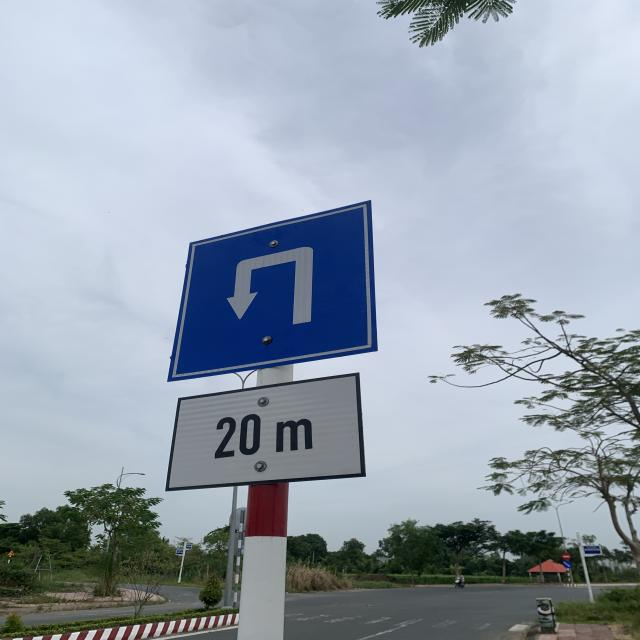Den_Giao_Thong: (164, 201, 374, 375)
